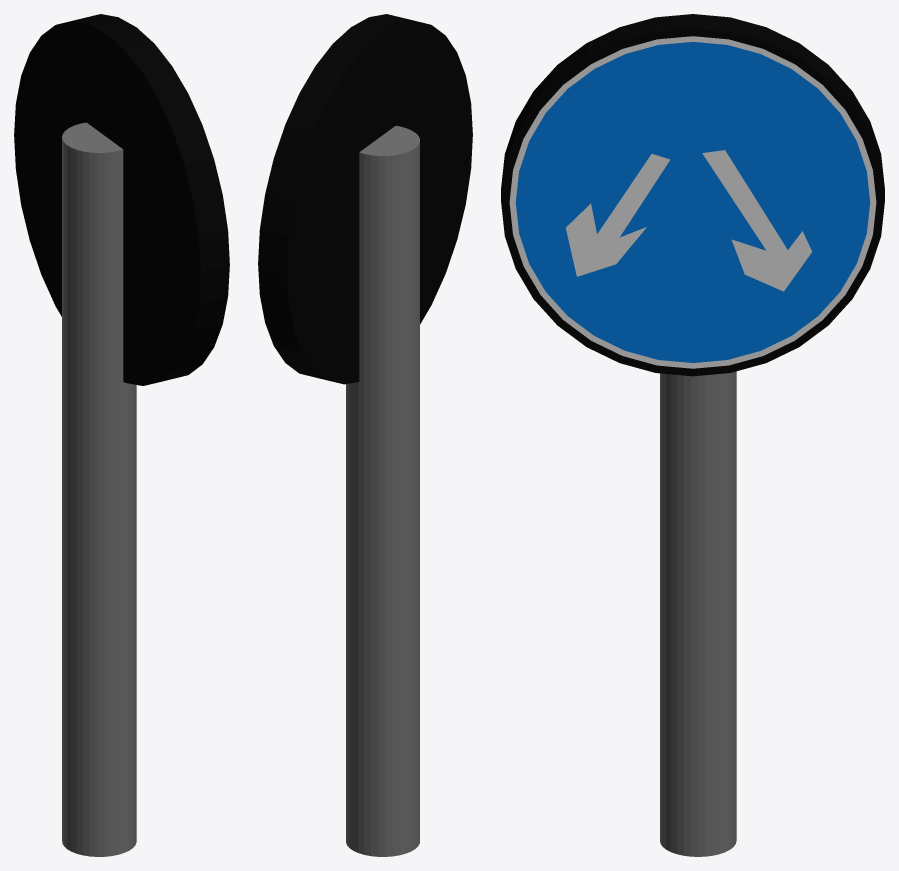
The model's file is go_both_ways.fbx.
3 views of the same model, side by side, from view 1: azimuth 30°, elevation 25°; view 2: azimuth 150°, elevation 25°; view 3: azimuth 270°, elevation 25° (orthographic). The views are drawn at different scales.
Visible parts, largest first — view 1: Cylinder, Circle; view 2: Cylinder, Circle; view 3: Circle, Cylinder.
Boxes of the visible parts, box(x1,y1,x2,y2) form: Cylinder: box(62, 122, 136, 856); Circle: box(14, 14, 229, 385); Cylinder: box(346, 126, 419, 856); Circle: box(258, 14, 472, 384); Circle: box(501, 14, 884, 376); Cylinder: box(660, 371, 736, 856).
Size of the model in its own units: 2.07 by 23.85 by 10.
